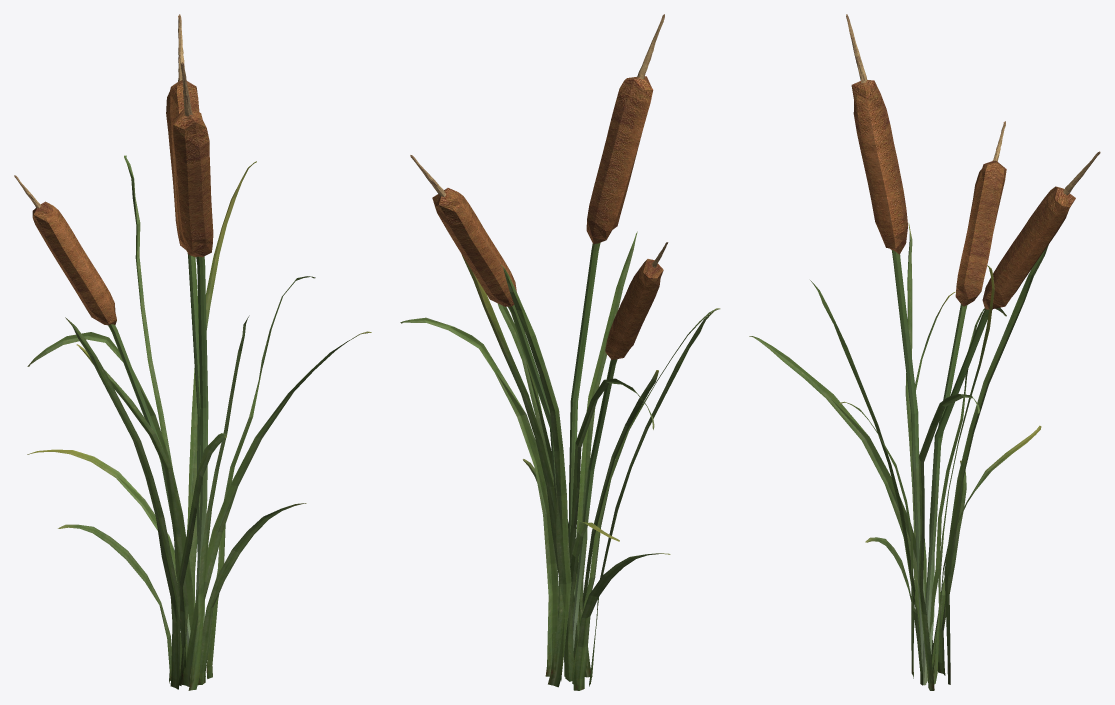
Rendered from cattail.obj.
3 views of the same model, side by side, from view 1: azimuth 30°, elevation 25°; view 2: azimuth 150°, elevation 25°; view 3: azimuth 270°, elevation 25° (orthographic). The views are drawn at different scales.
Visible parts, largest first — view 1: cattail_grass_Cube.001, cattails_Cube.004; view 2: cattail_grass_Cube.001, cattails_Cube.004; view 3: cattails_Cube.004, cattail_grass_Cube.001.
Boxes of the visible parts, left/top/right/bottom form: cattail_grass_Cube.001: left=27, top=155, right=371, bottom=690; cattails_Cube.004: left=14, top=14, right=213, bottom=646; cattail_grass_Cube.001: left=400, top=231, right=720, bottom=690; cattails_Cube.004: left=410, top=14, right=668, bottom=676; cattails_Cube.004: left=846, top=14, right=1100, bottom=685; cattail_grass_Cube.001: left=749, top=223, right=1048, bottom=690.
Size of the model in its own units: 4.8 by 10.59 by 5.25.
Materials: 2 (2 with a texture image).
